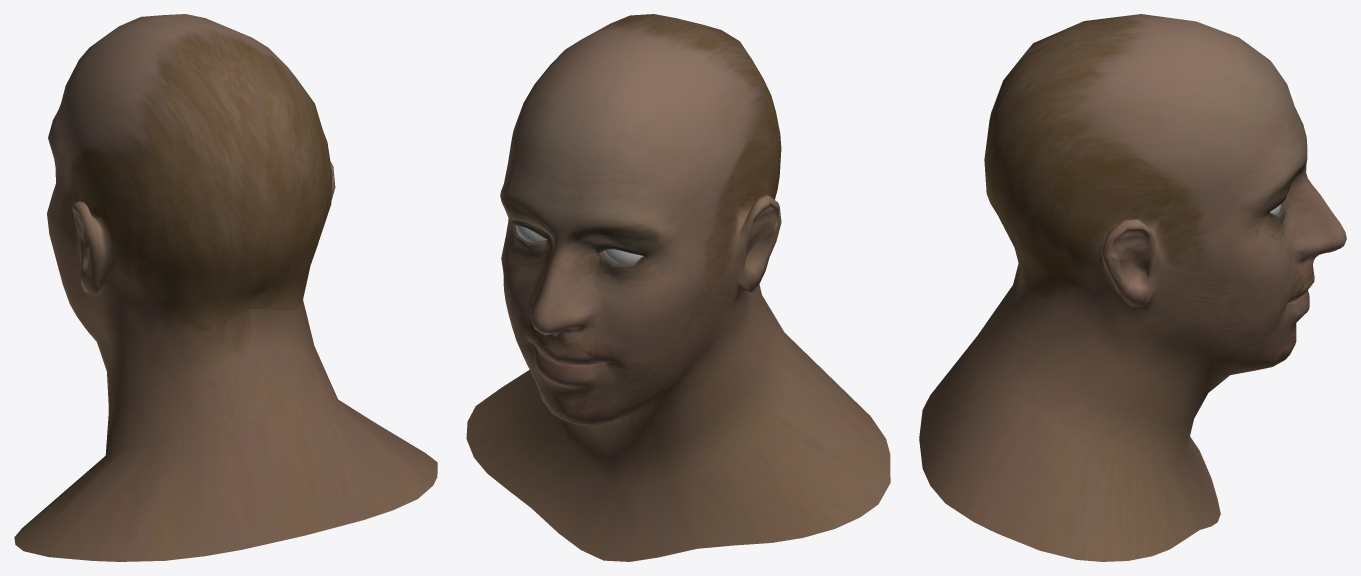
The model's file is G3_Head_Hero_Myrtana_Animated_09_S26.obj.
The picture shows the model from 3 angles, left to right: view 1: azimuth 30°, elevation 25°; view 2: azimuth 150°, elevation 25°; view 3: azimuth 270°, elevation 25°; orthographic projection.
Visible parts, largest first — view 1: G3_Animation_Head_Main_09; view 2: G3_Animation_Head_Main_09; view 3: G3_Animation_Head_Main_09.
Part boxes in pixels (x1,y1,x2,y2): G3_Animation_Head_Main_09: (14,14,437,561); G3_Animation_Head_Main_09: (466,14,890,561); G3_Animation_Head_Main_09: (919,14,1346,561).
Bounding box in the file's own units: 0.2967 × 0.3504 × 0.2777.
